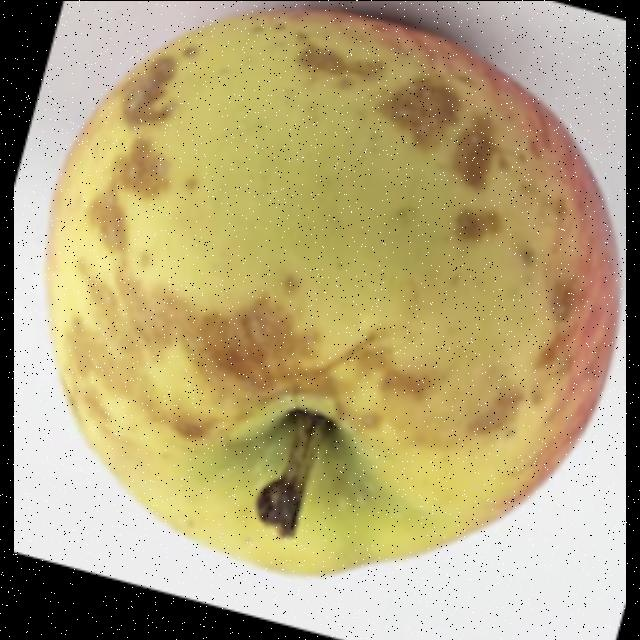Apel Tidak Segar: (42, 8, 627, 565)
